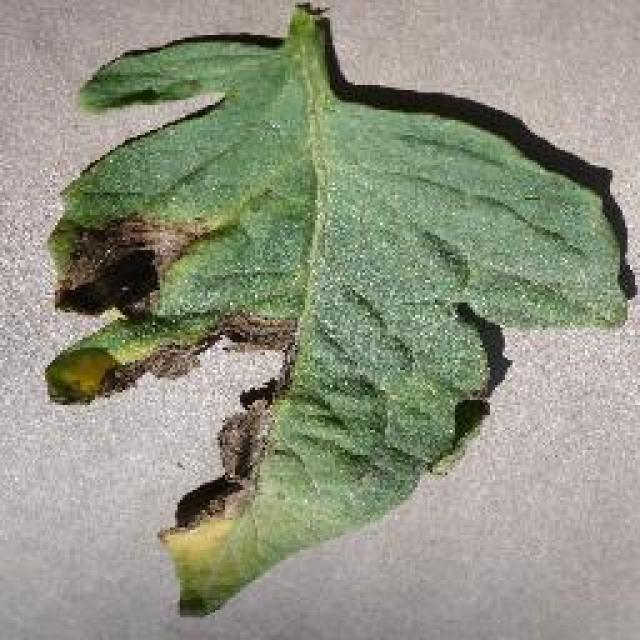Tomato___Early_blight: (44, 6, 627, 625)
